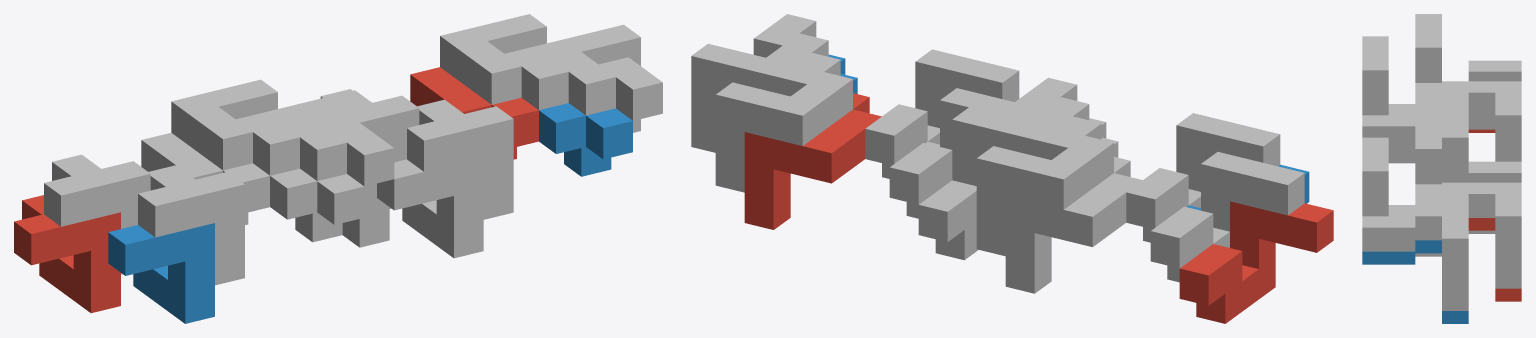
The model's file is tiling.obj.
The picture shows the model from 3 angles, left to right: view 1: azimuth 30°, elevation 25°; view 2: azimuth 150°, elevation 25°; view 3: azimuth 270°, elevation 25°; orthographic projection. The views are drawn at different scales.
Parts seen in each view (by area): view 1: copy_2_domain_7, copy_2_domain_3, copy_1_domain_2, copy_1_domain_1, copy_2_domain_8, copy_1_domain_8, copy_1_domain_4, copy_1_domain_6, copy_2_domain_4, copy_1_domain_3, copy_2_domain_2, copy_2_domain_6 (+4 smaller); view 2: copy_1_domain_1, copy_2_domain_3, copy_2_domain_7, copy_1_domain_3, copy_2_domain_1, copy_2_domain_5, copy_1_domain_4, copy_1_domain_8, copy_2_domain_8, copy_2_domain_4, copy_1_domain_7, copy_1_domain_5; view 3: copy_2_domain_8, copy_2_domain_7, copy_2_domain_4, copy_2_domain_3, copy_1_domain_7, copy_1_domain_3, copy_1_domain_4, copy_1_domain_8, copy_2_domain_6, copy_2_domain_5, copy_2_domain_1, copy_2_domain_2.
Part boxes in pixels (x1,y1,x2,y2): copy_2_domain_7: [440, 14, 568, 109]; copy_2_domain_3: [171, 79, 299, 175]; copy_1_domain_2: [108, 223, 214, 323]; copy_1_domain_1: [14, 195, 120, 313]; copy_2_domain_8: [534, 24, 662, 132]; copy_1_domain_8: [407, 99, 513, 219]; copy_1_domain_4: [138, 165, 244, 285]; copy_1_domain_6: [377, 157, 483, 258]; copy_2_domain_4: [266, 90, 394, 186]; copy_1_domain_3: [44, 154, 150, 274]; copy_2_domain_2: [270, 168, 364, 242]; copy_2_domain_6: [539, 103, 632, 176]; copy_1_domain_1: [1179, 201, 1333, 323]; copy_2_domain_3: [976, 116, 1113, 256]; copy_2_domain_7: [715, 53, 852, 192]; copy_1_domain_3: [1150, 152, 1304, 282]; copy_2_domain_1: [1005, 157, 1142, 293]; copy_2_domain_5: [744, 93, 881, 229]; copy_1_domain_4: [1126, 113, 1280, 242]; copy_1_domain_8: [865, 49, 1019, 178]; copy_2_domain_8: [691, 14, 828, 152]; copy_2_domain_4: [952, 77, 1089, 185]; copy_1_domain_7: [889, 88, 1043, 218]; copy_1_domain_5: [918, 180, 978, 260]; copy_2_domain_8: [1362, 205, 1468, 310]; copy_2_domain_7: [1415, 182, 1521, 288]; copy_2_domain_4: [1362, 104, 1468, 182]; copy_2_domain_3: [1415, 81, 1521, 161]; copy_1_domain_7: [1415, 115, 1521, 184]; copy_1_domain_3: [1415, 14, 1521, 82]; copy_1_domain_4: [1362, 36, 1441, 115]; copy_1_domain_8: [1362, 137, 1441, 216]; copy_2_domain_6: [1362, 240, 1468, 323]; copy_2_domain_5: [1468, 218, 1521, 301]; copy_2_domain_1: [1468, 116, 1495, 129]; copy_2_domain_2: [1388, 150, 1415, 163].
Bounding box in the file's own units: 21 × 4 × 6.
